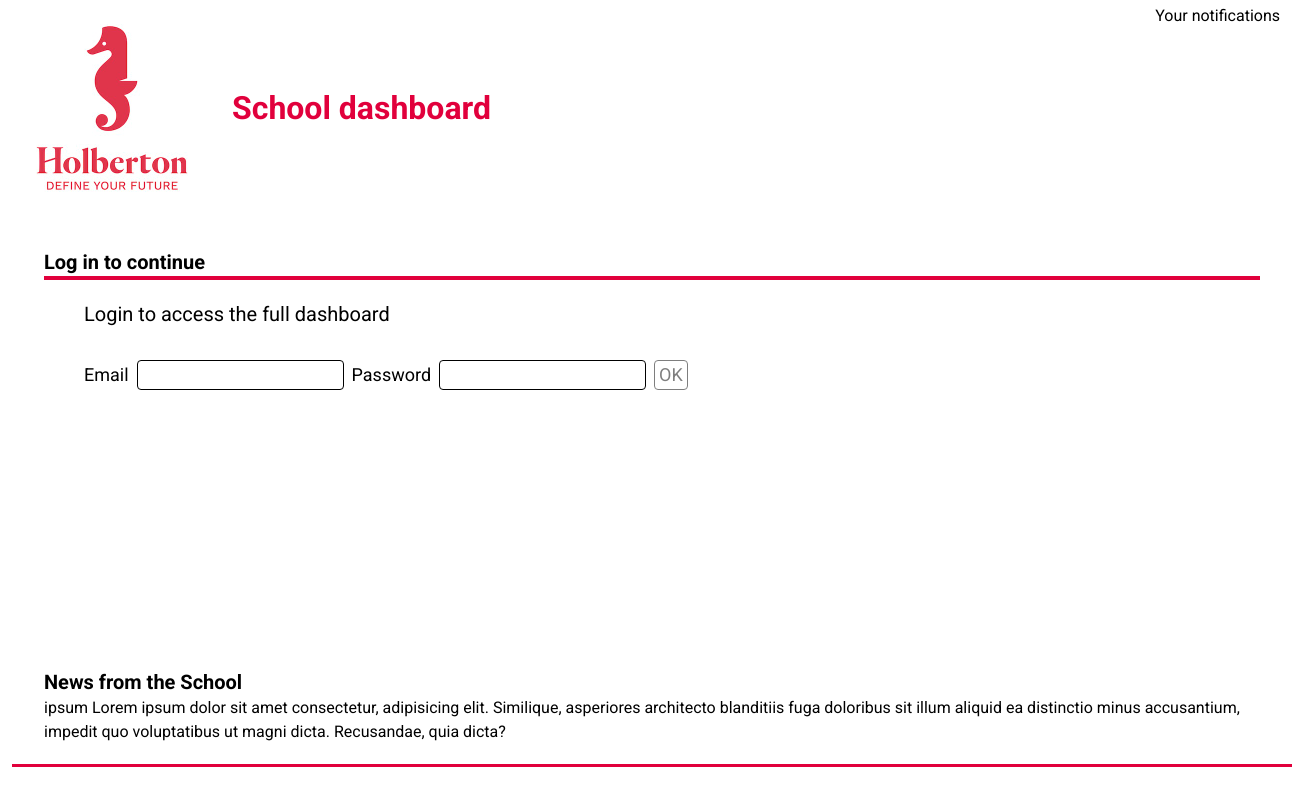
Test case: App Component › removes notification from list when clicking on it and logs correct message
The width and height of the screenshot is (1292, 790).
Step 1. Click the text "Your notifications" → point(1218, 16), box 1155,4 -> 1280,28
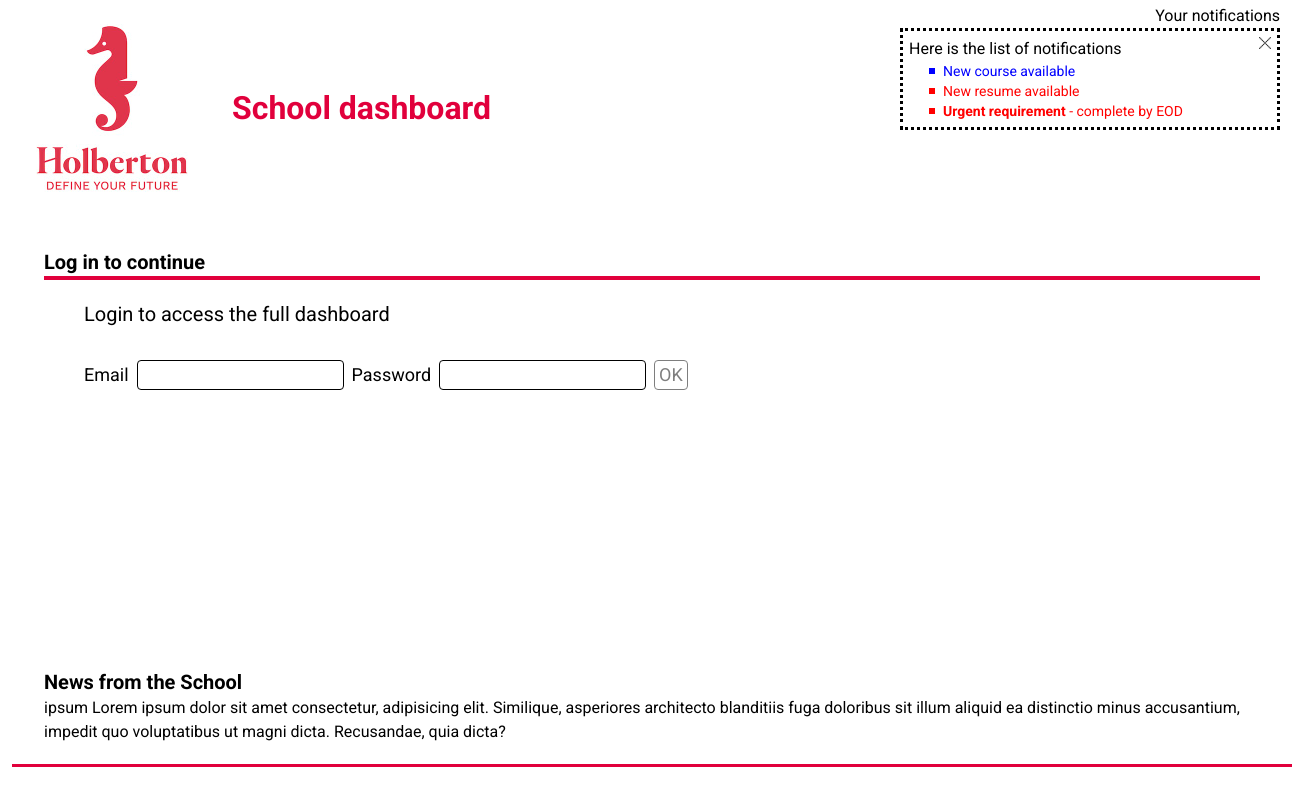
Now the text "Here is the list of notifications" is shown, box 909,39 -> 1122,58
Now the number of list items is 3
Step 2. Click the list item "New course available" → point(1002, 71), box 929,63 -> 1075,79
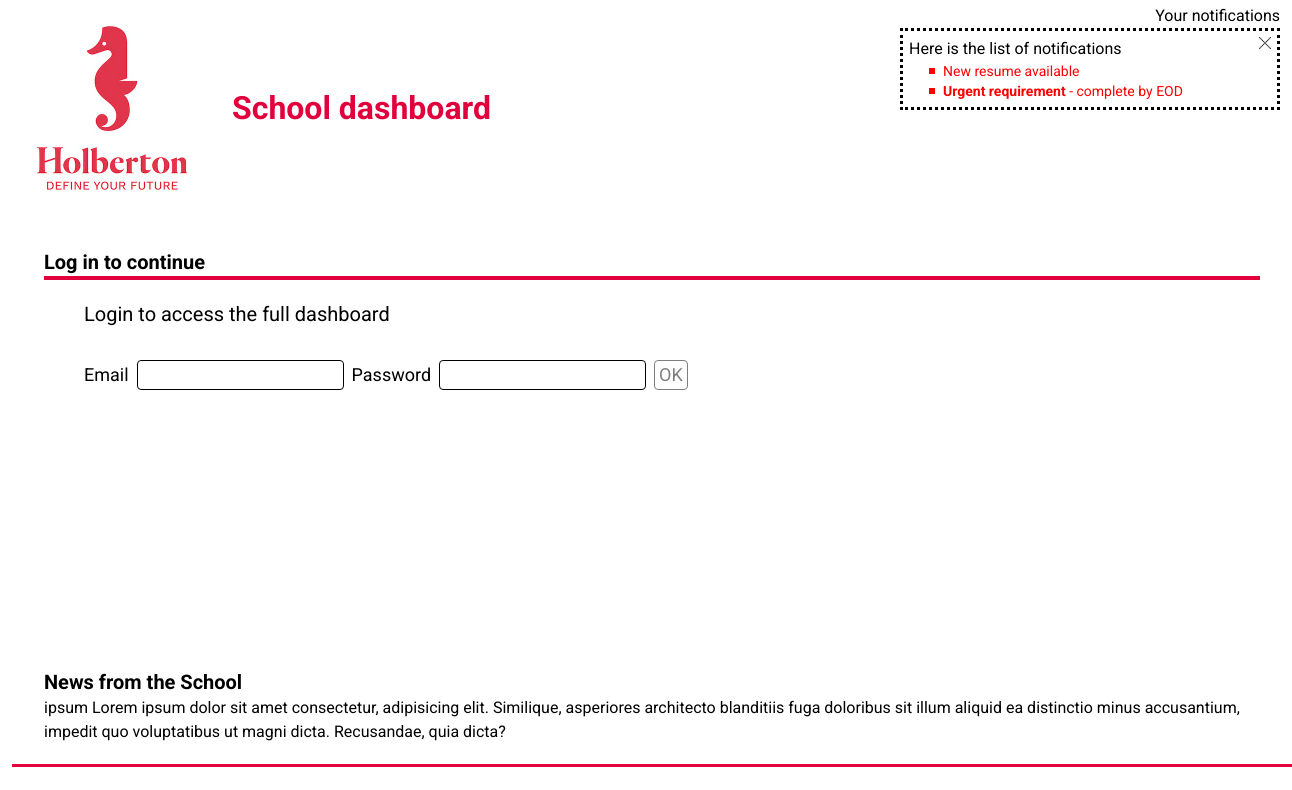
Now the number of list items is 2, box 929,63 -> 1080,79; 929,83 -> 1183,99
